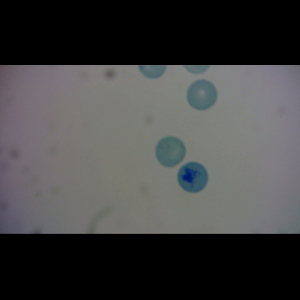aggregate reticulocyte: (176, 161, 209, 193)
erythrocyte: (186, 79, 218, 111), (154, 135, 186, 167)
